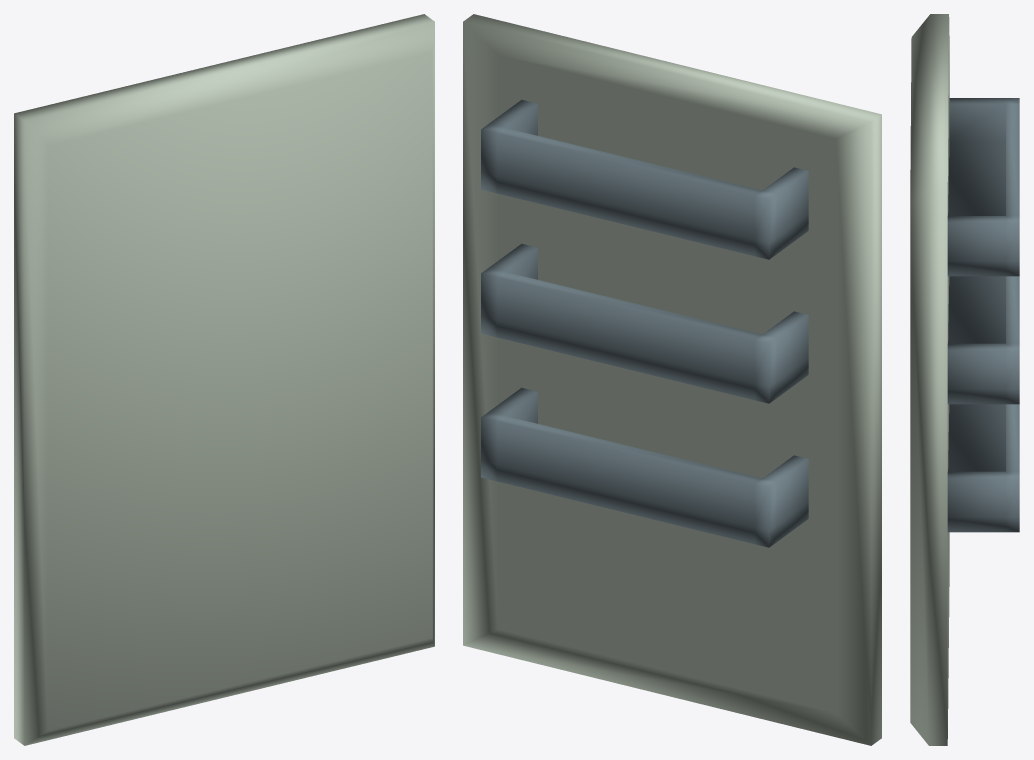
Rendered from FridgeDoor_kitchen_V1.fbx.
3 views of the same model, side by side, from view 1: azimuth 30°, elevation 25°; view 2: azimuth 150°, elevation 25°; view 3: azimuth 270°, elevation 25° (orthographic). The views are drawn at different scales.
Parts seen in each view (by area): view 1: Cube.002; view 2: Cube.002, Cube.005; view 3: Cube.005, Cube.002.
Part boxes in pixels (x1,y1,x2,y2): Cube.002: (14, 14, 434, 745); Cube.002: (463, 14, 881, 745); Cube.005: (481, 99, 808, 547); Cube.005: (947, 98, 1019, 532); Cube.002: (910, 14, 949, 745).
Bounding box in the file's own units: 75.54 × 110 × 19.7.
